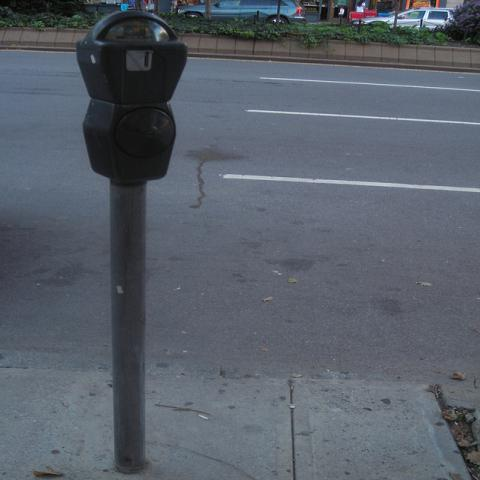car: (177, 0, 307, 25), (352, 8, 456, 28)
